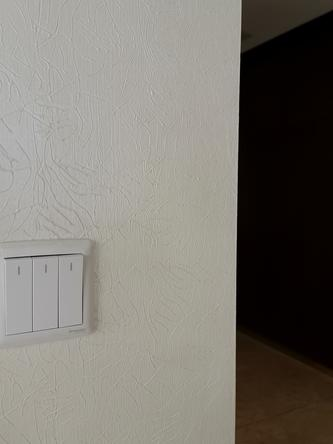switch: (1, 250, 38, 339), (29, 253, 63, 333), (56, 253, 88, 331)
